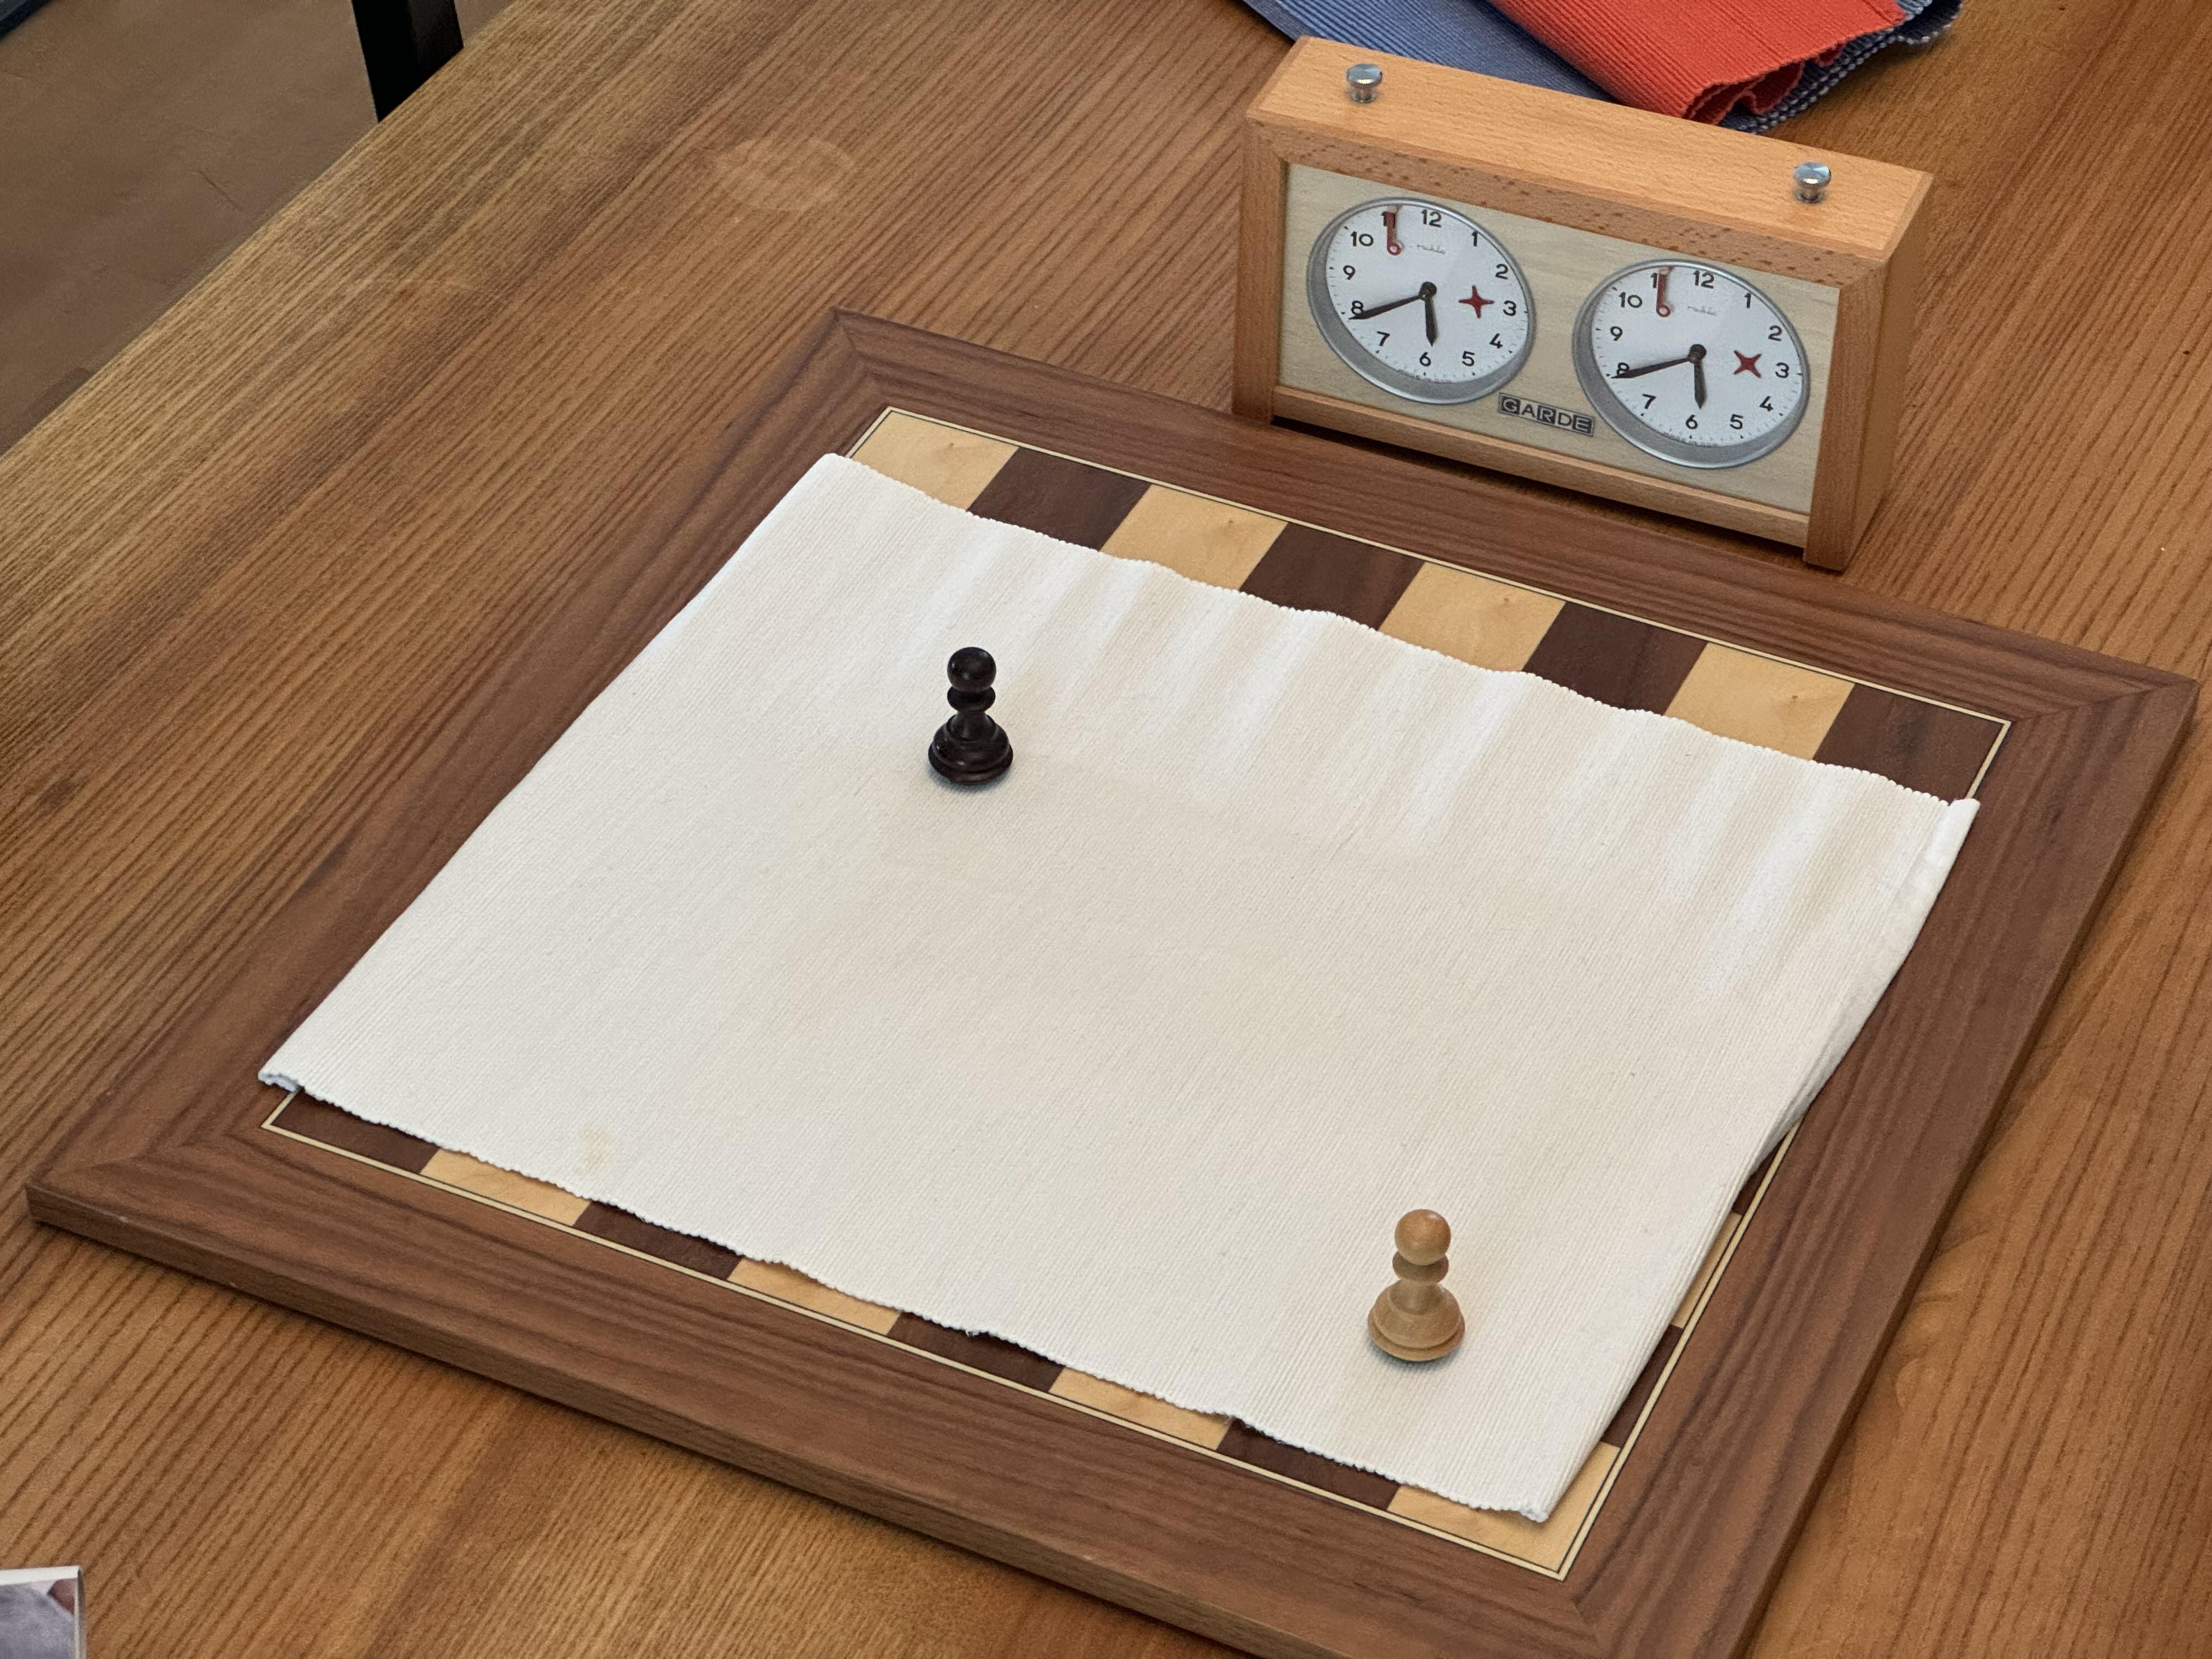Black Pawn: (923, 642, 1017, 794)
White Pawn: (1362, 1206, 1471, 1375)
